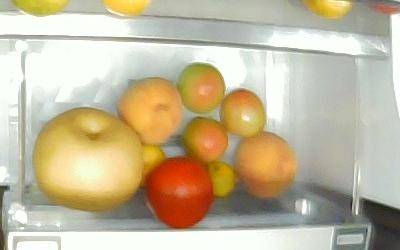peach: (116, 75, 182, 143), (232, 130, 296, 198)
pear: (31, 105, 144, 211)
tangerine: (205, 160, 238, 198), (141, 144, 165, 177)
tomato: (143, 155, 214, 228), (176, 62, 225, 114), (218, 88, 266, 137), (181, 115, 228, 164)
